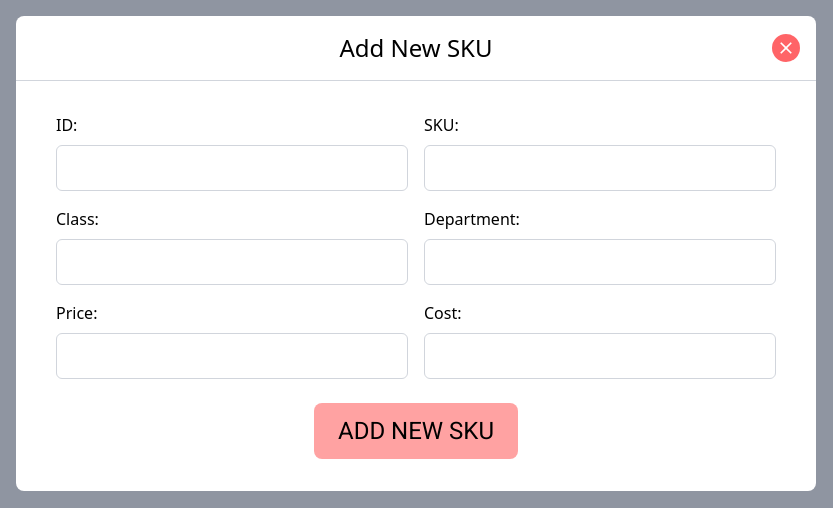
AddNewSku Component › should show error message when fields are empty
This screenshot has width=833, height=508.
Click the button with test id "add-dialog-button" at (416, 430), box [314,402,518,458]
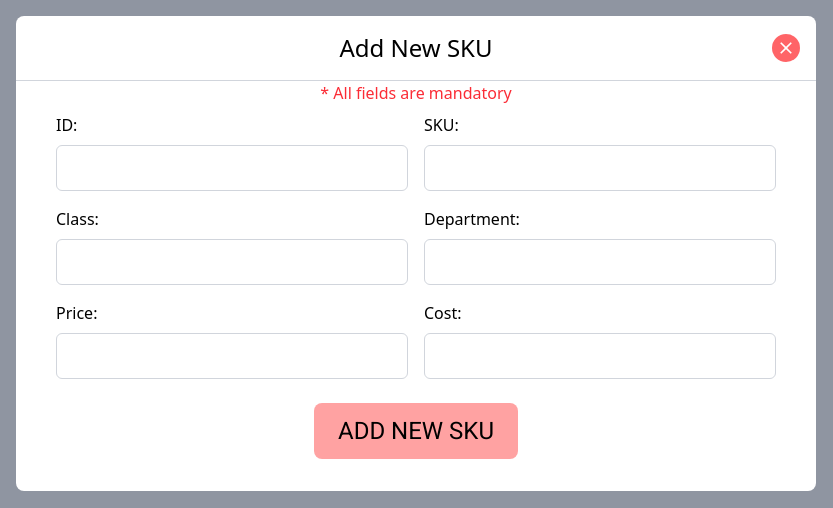
expect the text "* All fields are mandatory" is shown: met, box [320,80,512,104]
